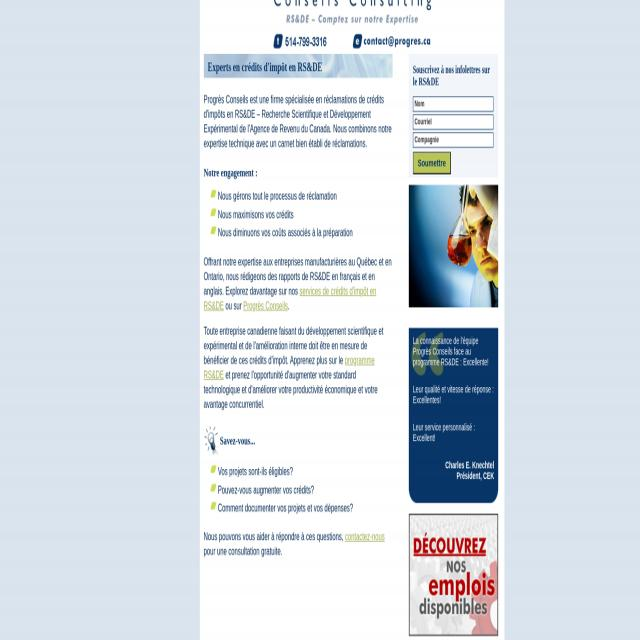button: (409, 185, 498, 308), (286, 15, 418, 26), (353, 33, 431, 51), (273, 33, 332, 51), (413, 152, 451, 174)
field: (413, 96, 493, 112), (413, 114, 493, 130), (413, 132, 493, 148)
